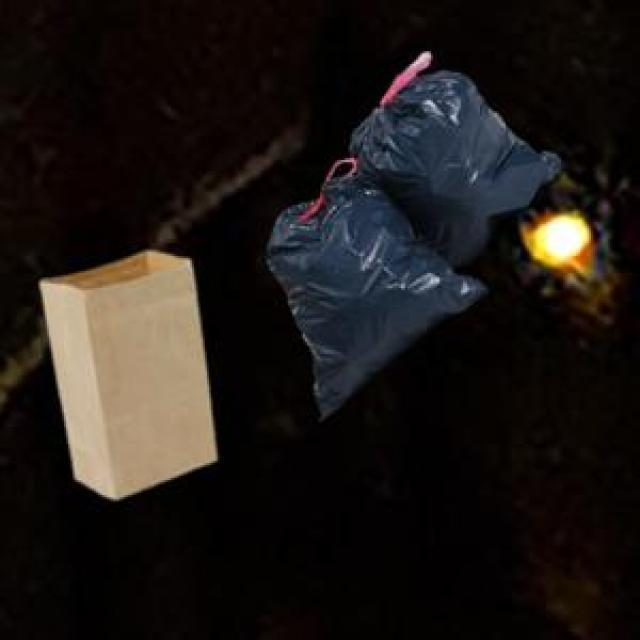miscellaneous trash: (265, 49, 561, 416)
paper: (36, 248, 213, 495)
